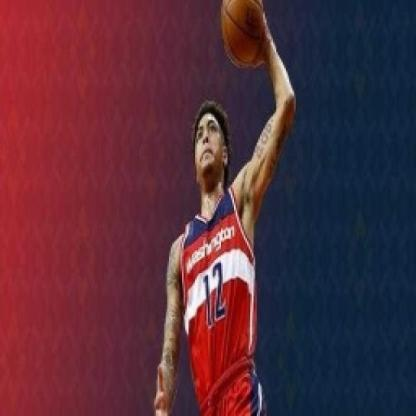basketball: (216, 0, 270, 72)
